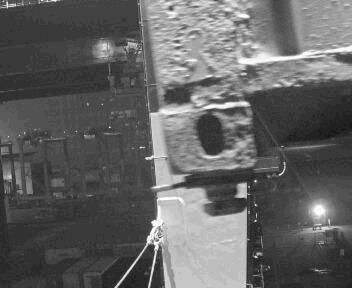twist_lock_1: (172, 167, 259, 223)
